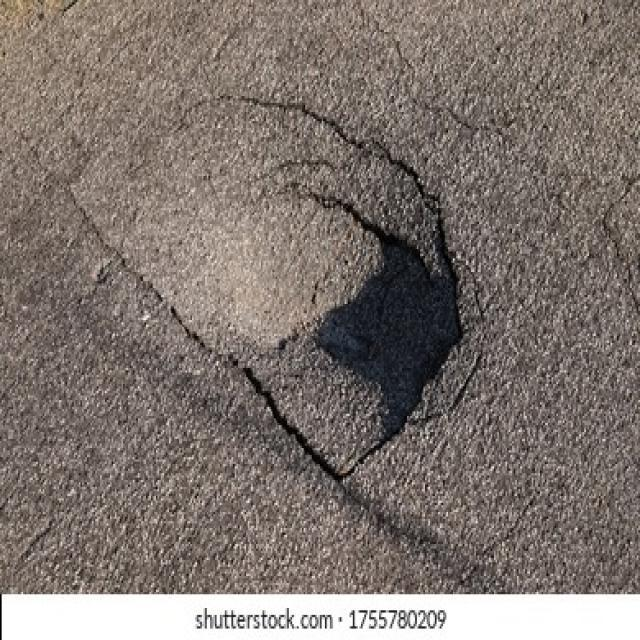Pothole: (222, 132, 486, 487)
